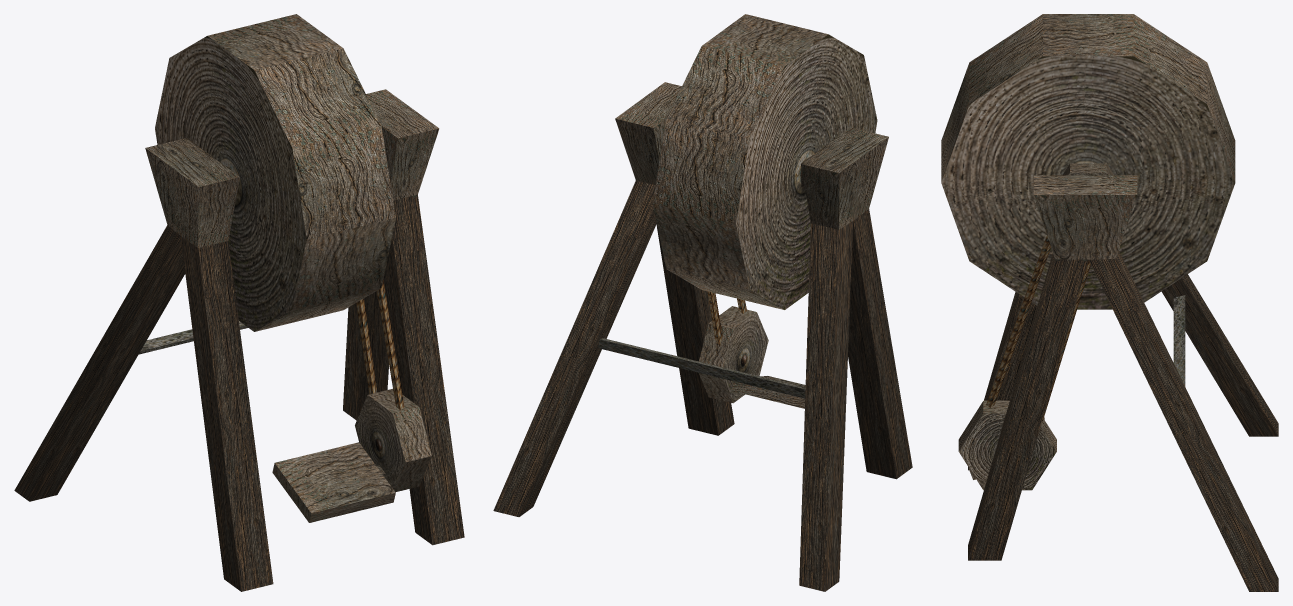
Rendered from mm9_deco_grindingwheel.glb.
The picture shows the model from 3 angles, left to right: view 1: azimuth 30°, elevation 25°; view 2: azimuth 150°, elevation 25°; view 3: azimuth 270°, elevation 25°; orthographic projection. The views are drawn at different scales.
Visible parts, largest first — view 1: Grindingwheel; view 2: Grindingwheel; view 3: Grindingwheel.
Boxes of the visible parts, bbox=[...] form: Grindingwheel: bbox=[14, 14, 464, 591]; Grindingwheel: bbox=[493, 14, 912, 591]; Grindingwheel: bbox=[941, 14, 1278, 591].
Size of the model in its own units: 0.9163 by 1.18 by 0.7762.
2 materials, 2 textured.
